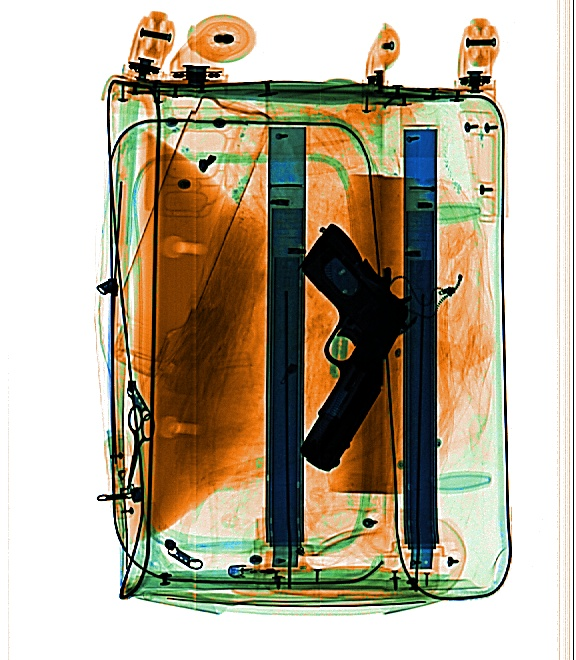bottle: (114, 93, 277, 379)
gun: (295, 220, 419, 481)
razor_blade: (329, 331, 351, 382)
